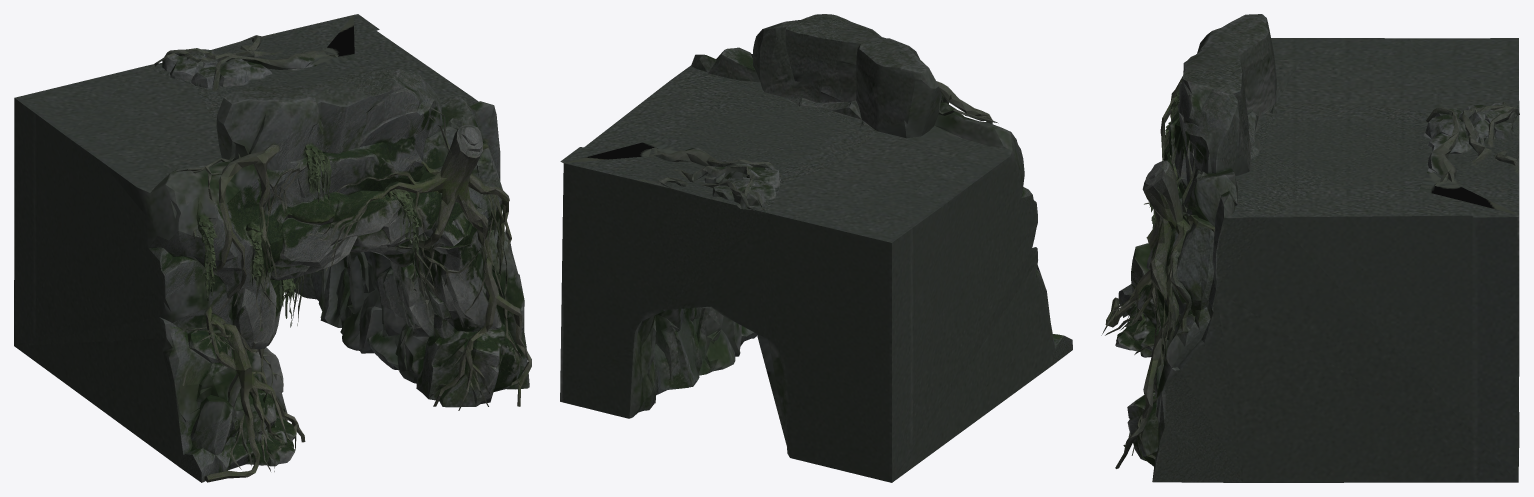
File: EntradaCavernaAto1.glb
The picture shows the model from 3 angles, left to right: view 1: azimuth 30°, elevation 25°; view 2: azimuth 150°, elevation 25°; view 3: azimuth 270°, elevation 25°; orthographic projection. The views are drawn at different scales.
Parts seen in each view (by area): view 1: output_unwrapped; view 2: output_unwrapped; view 3: output_unwrapped.
Part boxes in pixels (<box>): output_unwrapped: <box>14,14,531,482</box>; output_unwrapped: <box>560,14,1072,482</box>; output_unwrapped: <box>1101,14,1519,482</box>.
Size of the model in its own units: 1.9 by 1.68 by 1.87.
Materials: 1 (1 with a texture image).
